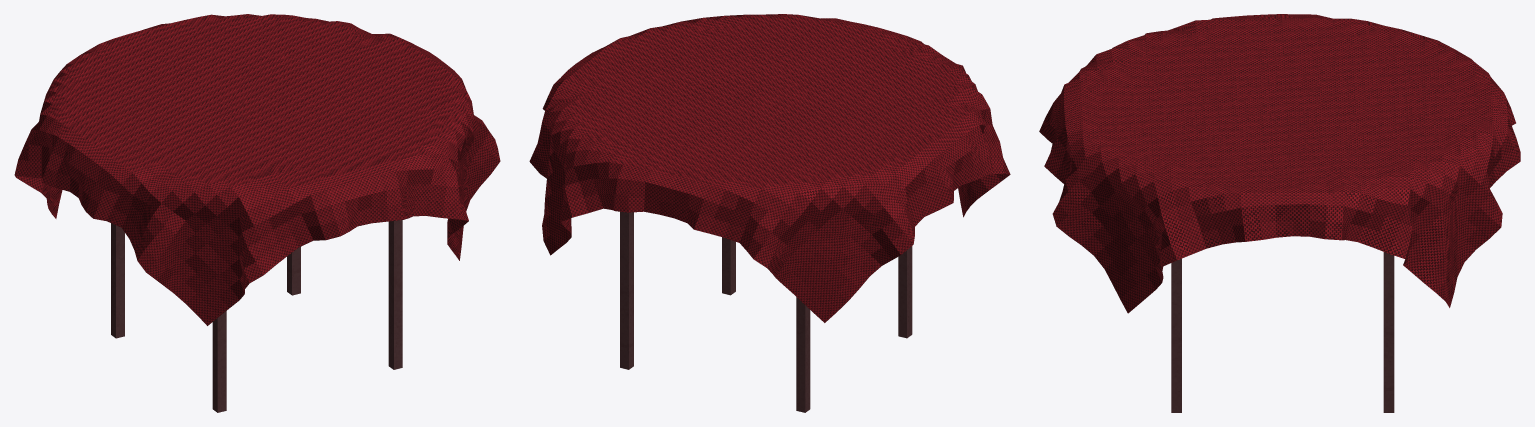
Rendered from Yuvarlak Masa.fbx.
The picture shows the model from 3 angles, left to right: view 1: azimuth 30°, elevation 25°; view 2: azimuth 150°, elevation 25°; view 3: azimuth 270°, elevation 25°; orthographic projection. The views are drawn at different scales.
Parts seen in each view (by area): view 1: Yuvarlak Masa; view 2: Yuvarlak Masa; view 3: Yuvarlak Masa.
Boxes of the visible parts, box(x1,y1,x2,y2) form: Yuvarlak Masa: box(14, 14, 500, 412); Yuvarlak Masa: box(529, 14, 1010, 412); Yuvarlak Masa: box(1039, 14, 1520, 412).
Bounding box in the file's own units: 136 × 82.02 × 136.
Materials: 2 (2 with a texture image).
